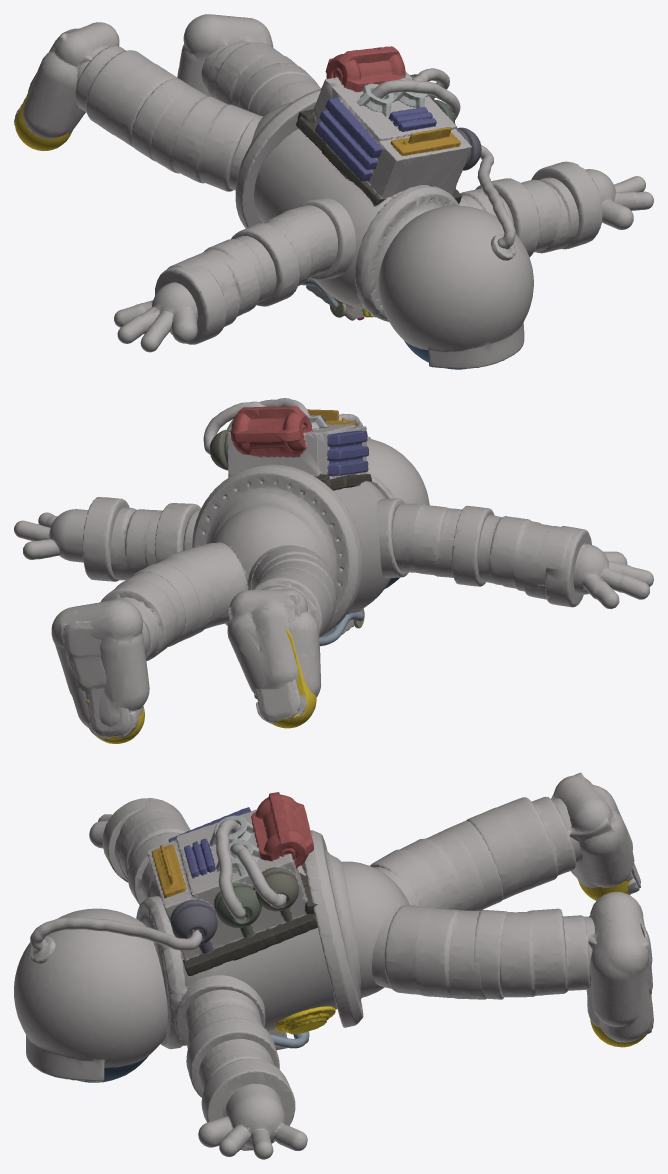
The picture shows the model from 3 angles, top to bottom: view 1: azimuth 30°, elevation 25°; view 2: azimuth 150°, elevation 25°; view 3: azimuth 270°, elevation 25°; orthographic projection. The views are drawn at different scales.
Parts seen in each view (by area): view 1: Object_2; view 2: Object_2; view 3: Object_2.
Boxes of the visible parts, x1,y1,x2,y2 form: Object_2: (14, 14, 653, 369); Object_2: (14, 398, 653, 743); Object_2: (14, 772, 653, 1159).
Size of the model in its own units: 101 by 41.88 by 89.34.
